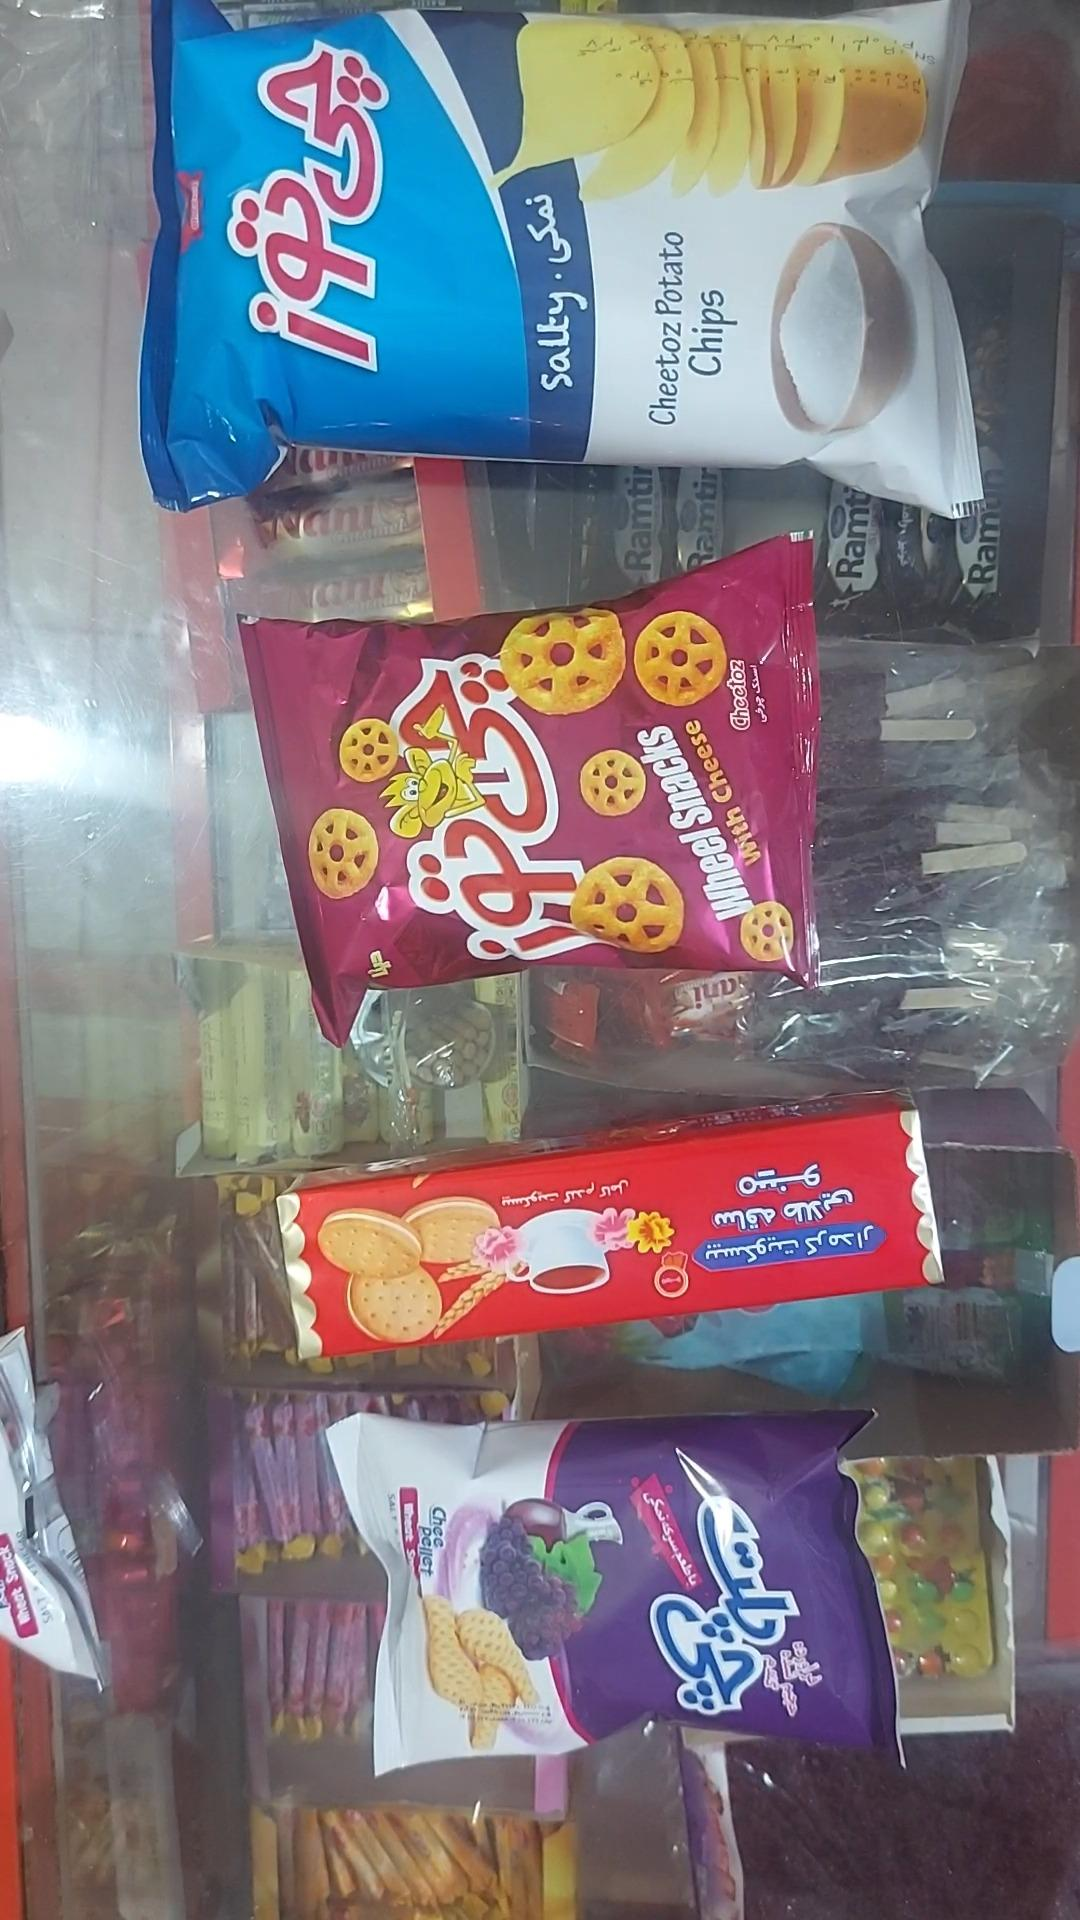Chee pellet vinegar: (328, 1414, 895, 1775)
Cheetoz salty chips: (140, 0, 982, 513)
Cheetoz wheelsnack: (241, 539, 819, 1044)
Minoo cream biscuit: (277, 1098, 943, 1362)
